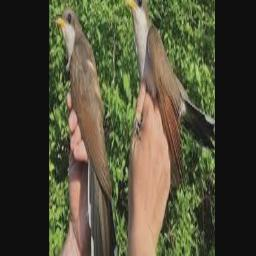Cuckoo: (125, 0, 215, 193), (56, 7, 117, 256)
